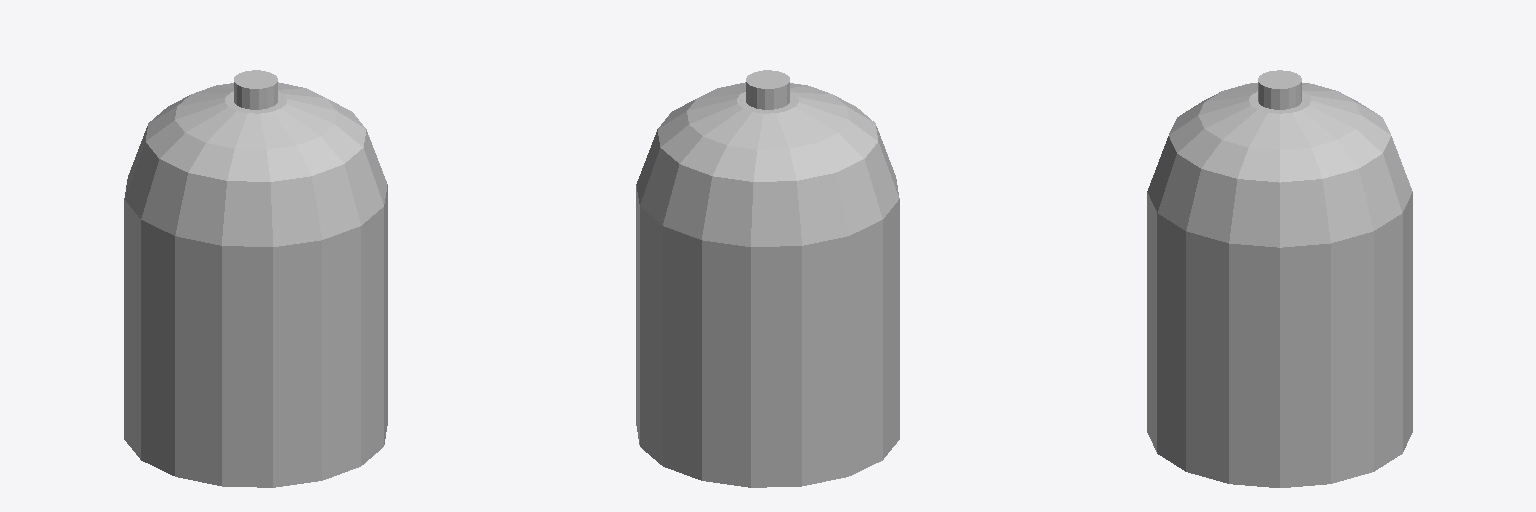
The model's file is tank_1.obj.
3 renders of one model, left to right at view 1: azimuth 30°, elevation 25°; view 2: azimuth 150°, elevation 25°; view 3: azimuth 270°, elevation 25°, orthographic.
Visible parts, largest first — view 1: Cylinder.001; view 2: Cylinder.001; view 3: Cylinder.001.
Boxes of the visible parts, x1,y1,x2,y2 form: Cylinder.001: [124, 70, 387, 487]; Cylinder.001: [636, 70, 899, 487]; Cylinder.001: [1147, 70, 1412, 487].
Bounding box in the file's own units: 2 × 2.93 × 2.